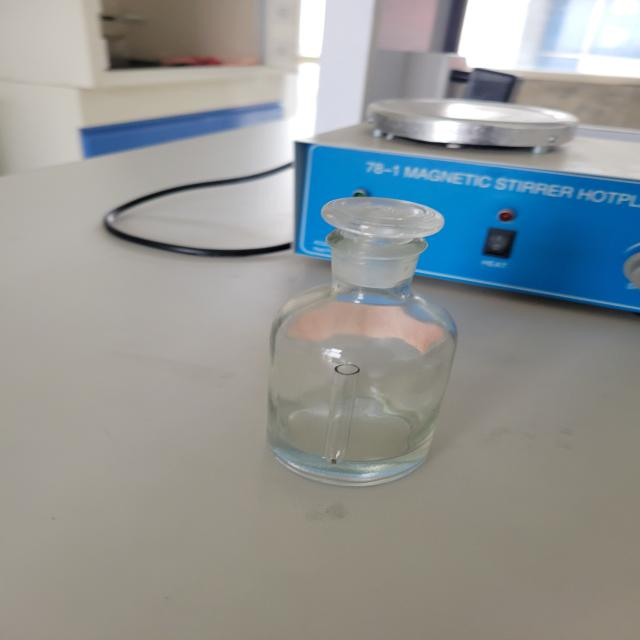Reagent_Bottle: (193, 156, 501, 507)
